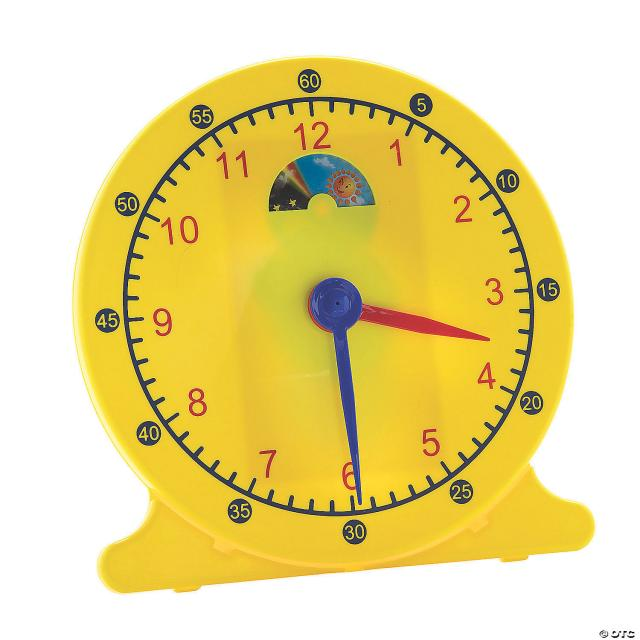clock: (57, 70, 604, 624)
